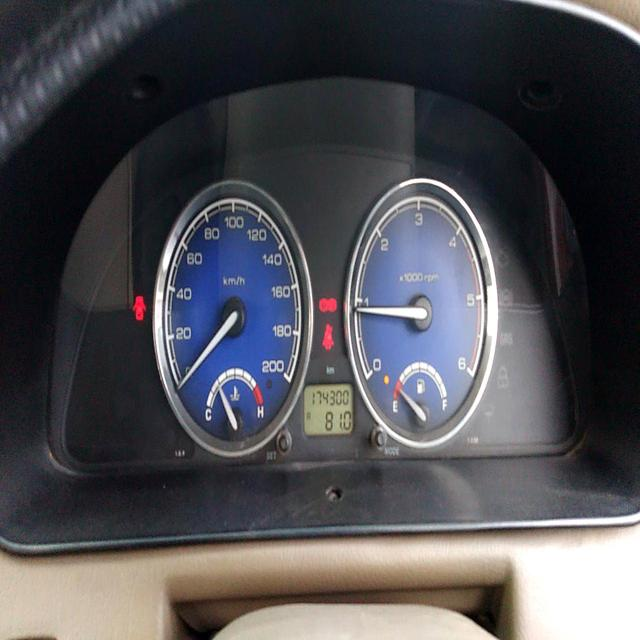odometer: (311, 386, 349, 408)
